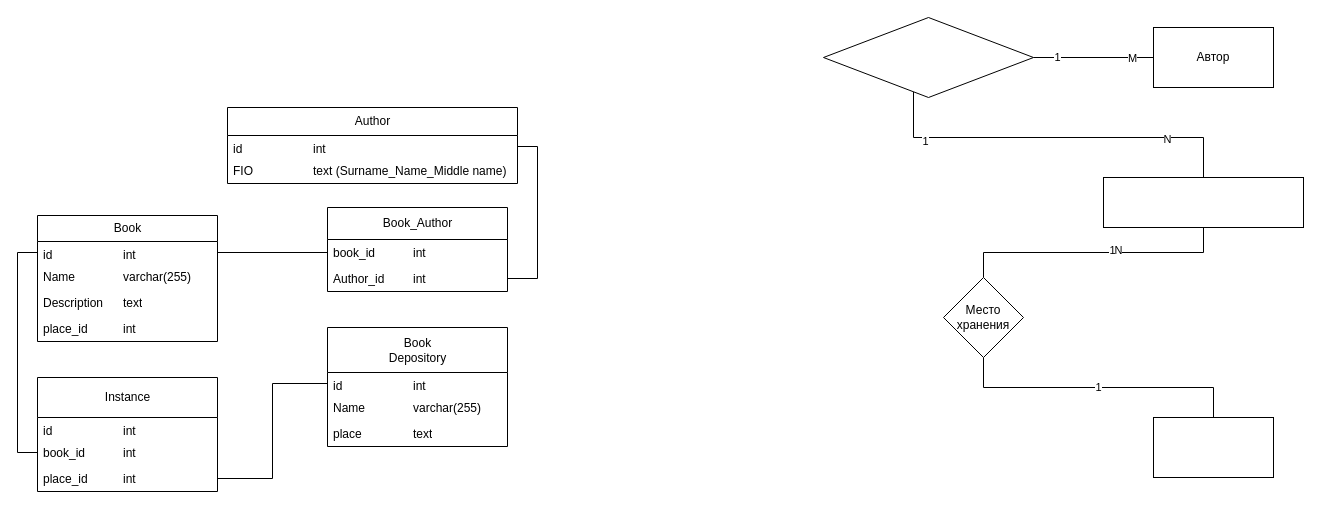
Image size: 1321x512. Some labels were removed from this diagram. Each missing label, with the centre of its shape:
"Книга" goes at pixel 1203 202.
"Книгохранилище" goes at pixel 1213 447.
"Кто написал" goes at pixel 928 57.
